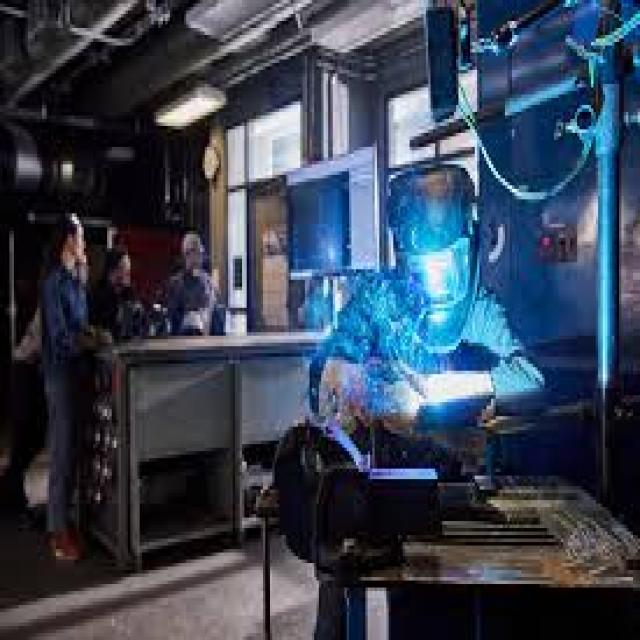welding: (426, 380, 448, 407)
